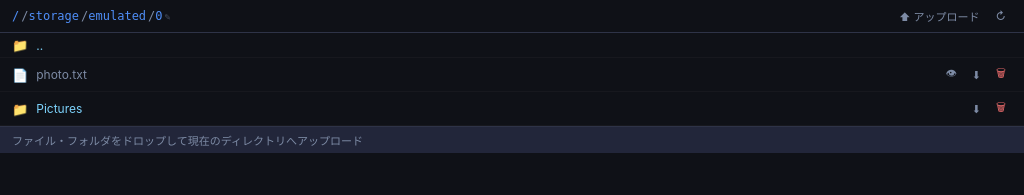
FileExplorer production component › shows deletion failure without removing the file
Expected: the text "photo.txt" is shown, [36, 67, 87, 82]
Click the button titled "削除" in the row of "photo.txt".
click(1001, 74)  # box [990, 62, 1012, 87]
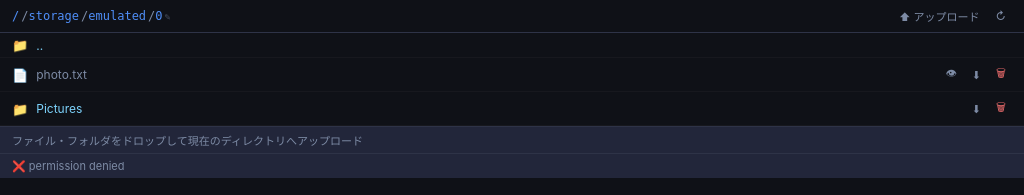
Expected: the text "photo.txt" is shown, [36, 67, 87, 82]
Now the text "❌ permission denied" is shown, box [0, 153, 1023, 178]
